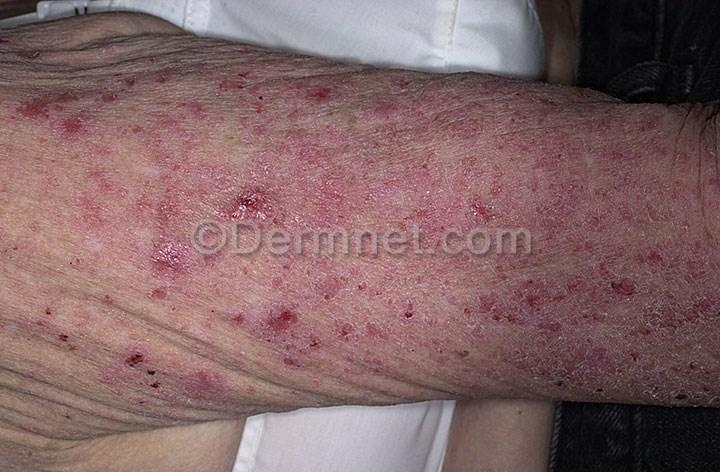Eczema: (40, 62, 274, 268), (274, 70, 498, 256), (495, 87, 689, 299), (208, 268, 424, 420), (7, 275, 210, 428), (428, 260, 567, 412), (566, 292, 720, 411)
